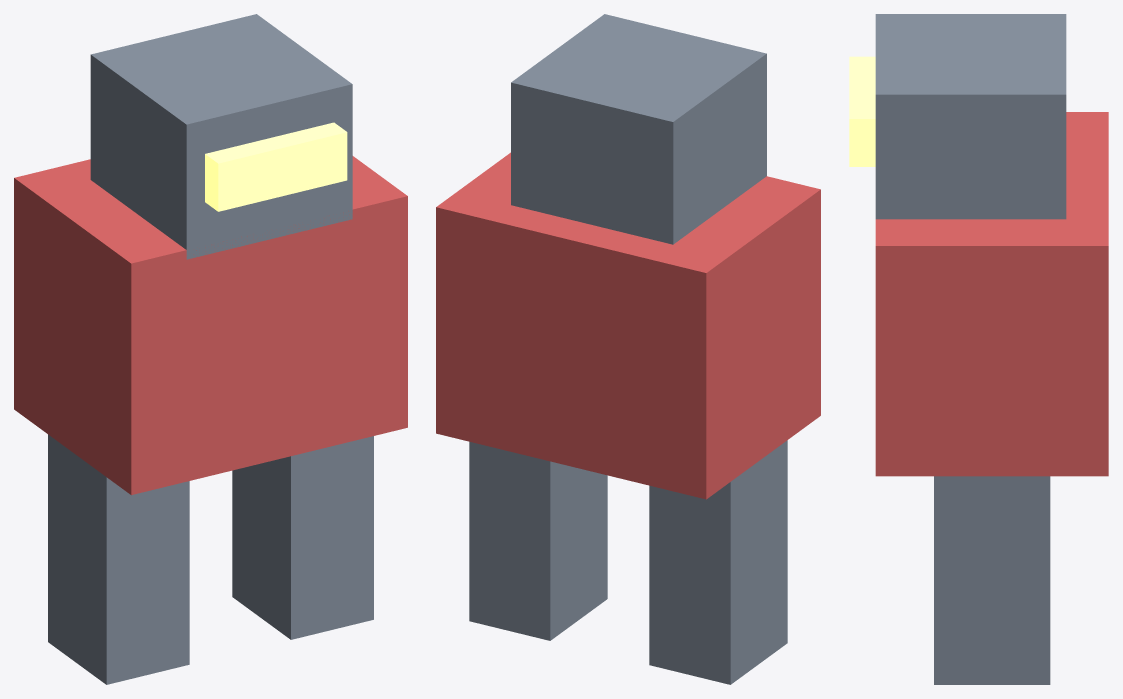
Rendered from trooper.glb.
The picture shows the model from 3 angles, left to right: view 1: azimuth 30°, elevation 25°; view 2: azimuth 150°, elevation 25°; view 3: azimuth 270°, elevation 25°; orthographic projection. The views are drawn at different scales.
Bounding box in the file's own units: 0.3 × 0.59 × 0.245.
